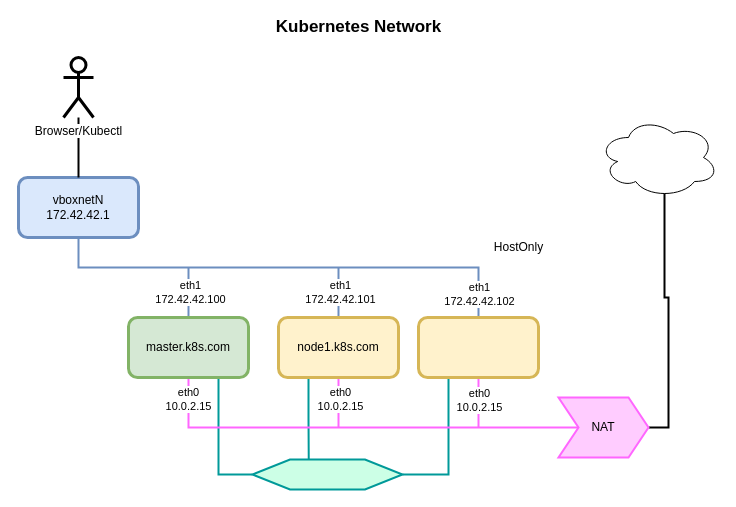
Some shapes in this 736 by 507 pixel diagram are drawn without their labels. Each missing label, with the centre of its shape:
Internet: pixel 658 157
node2.k8s.com: pixel 478 347
Pod Network 192.168.0.0: pixel 327 474
